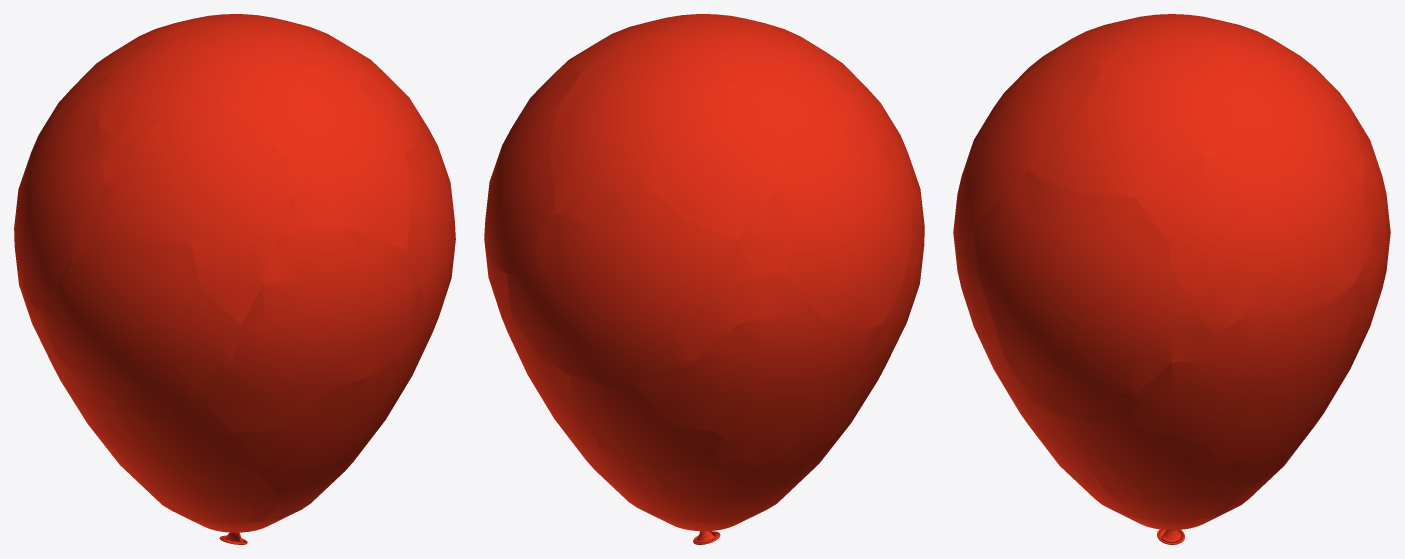
File: balloon_pieces.fbx
3 views of the same model, side by side, from view 1: azimuth 30°, elevation 25°; view 2: azimuth 150°, elevation 25°; view 3: azimuth 270°, elevation 25° (orthographic).
Visible parts, largest first — view 1: 구체.028, 구체.029, 구체.026, 구체.009, 구체.031, 구체.033, 구체.008, 구체.034, 구체.012, 구체.017, 구체.011, 구체.006 (+12 smaller); view 2: 구체.027, 구체.035, 구체.010, 구체.034, 구체.021, 구체.002, 구체.033, 구체.022, 구체.003, 구체.036, 구체.004, 구체.019 (+11 smaller); view 3: 구체.030, 구체.036, 구체.023, 구체.001, 구체.005, 구체.032, 구체.031, 구체.035, 구체.024, 구체.013, 구체.007, 구체.014 (+10 smaller).
Boxes of the visible parts, <box> form: 구체.028: <box>197,224,427,432</box>; 구체.029: <box>91,102,306,325</box>; 구체.026: <box>37,241,240,418</box>; 구체.009: <box>196,224,428,431</box>; 구체.031: <box>253,65,411,249</box>; 구체.033: <box>98,20,310,163</box>; 구체.008: <box>90,100,303,322</box>; 구체.034: <box>14,81,105,311</box>; 구체.012: <box>235,334,422,522</box>; 구체.017: <box>109,387,279,526</box>; 구체.011: <box>41,241,241,418</box>; 구체.006: <box>253,66,410,249</box>; 구체.027: <box>508,181,801,380</box>; 구체.035: <box>550,42,791,240</box>; 구체.010: <box>507,182,800,384</box>; 구체.034: <box>738,117,912,326</box>; 구체.021: <box>638,295,889,472</box>; 구체.002: <box>550,69,791,240</box>; 구체.033: <box>635,14,869,137</box>; 구체.022: <box>570,375,740,513</box>; 구체.003: <box>738,119,910,324</box>; 구체.036: <box>488,70,581,272</box>; 구체.004: <box>634,23,870,137</box>; 구체.019: <box>648,416,852,523</box>; 구체.030: <box>974,169,1213,416</box>; 구체.036: <box>1136,110,1373,336</box>; 구체.023: <box>1120,284,1369,488</box>; 구체.001: <box>1140,124,1373,335</box>; 구체.005: <box>1029,63,1239,198</box>; 구체.032: <box>1030,63,1238,197</box>; 구체.031: <box>969,53,1101,228</box>; 구체.035: <box>1199,22,1363,181</box>; 구체.024: <box>1078,402,1249,524</box>; 구체.013: <box>1053,402,1242,524</box>; 구체.007: <box>974,171,1206,416</box>; 구체.014: <box>1127,300,1314,479</box>.
Bounding box in the file's own units: 203 × 255 × 200.
